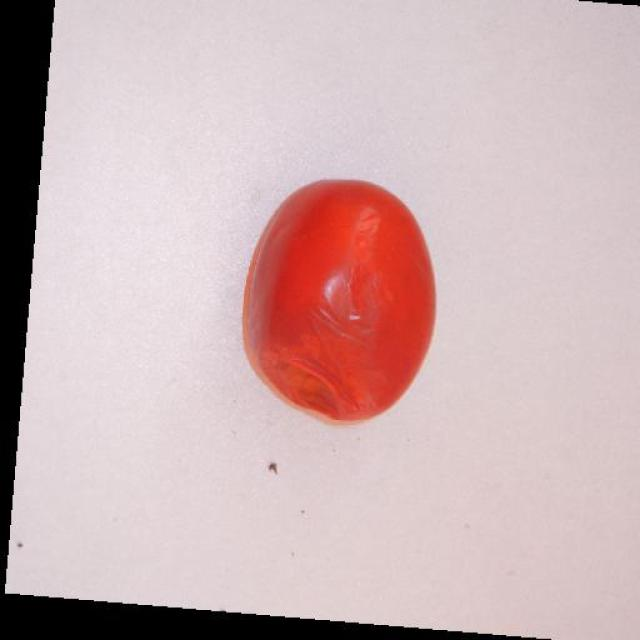Stale_tomato: (246, 160, 436, 434)
